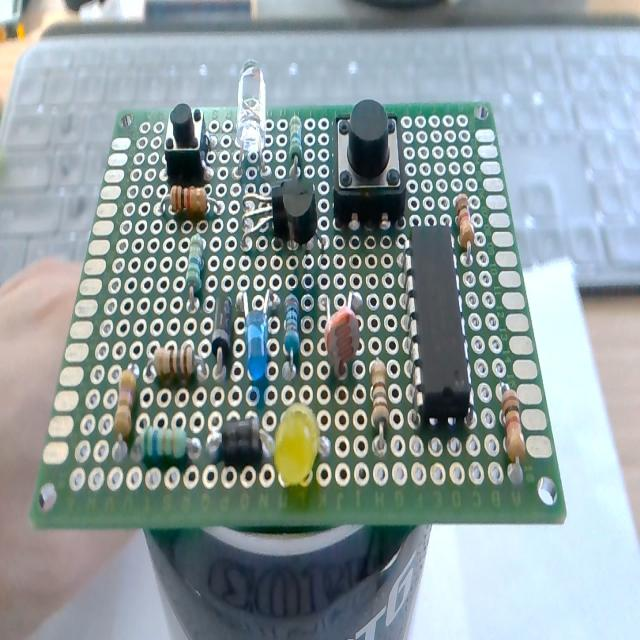IC: (392, 220, 482, 444)
cds: (317, 283, 369, 385)
diode: (210, 283, 242, 381)
led: (275, 394, 340, 502), (228, 56, 272, 178), (242, 276, 272, 386)
resistor: (495, 376, 529, 490), (362, 350, 392, 462), (160, 184, 217, 236), (148, 340, 206, 386), (452, 187, 476, 271), (280, 290, 302, 377), (282, 110, 310, 172), (187, 220, 205, 312)
switch: (329, 94, 405, 238), (156, 103, 214, 182)
transistor: (277, 176, 331, 263)
